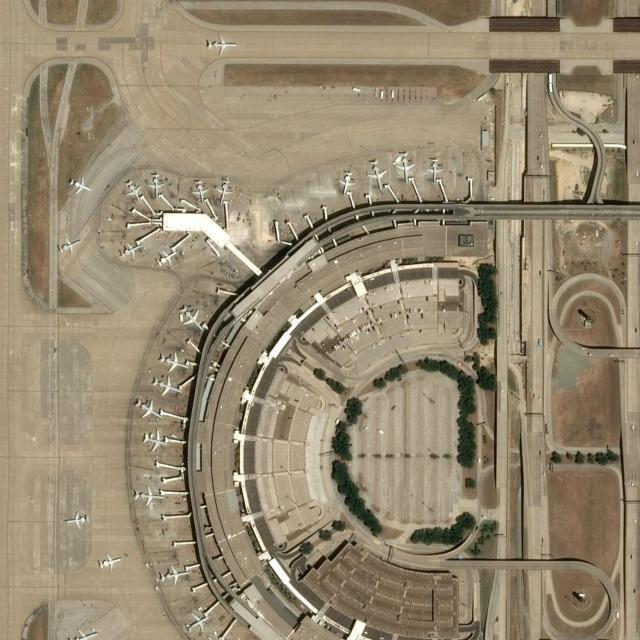Aircraft: (202, 33, 238, 53), (132, 396, 162, 420), (134, 486, 166, 507), (139, 428, 169, 450), (159, 564, 189, 586), (183, 610, 211, 633), (150, 375, 180, 396), (334, 169, 358, 195), (178, 303, 202, 329), (367, 158, 387, 188), (158, 350, 184, 372), (214, 176, 234, 203), (396, 154, 415, 182), (147, 171, 167, 197), (120, 177, 140, 202), (192, 178, 210, 204), (64, 511, 88, 530), (68, 176, 92, 194), (98, 551, 120, 570), (426, 156, 443, 180), (58, 234, 80, 252), (155, 247, 177, 265), (69, 627, 99, 640), (119, 240, 141, 257)
